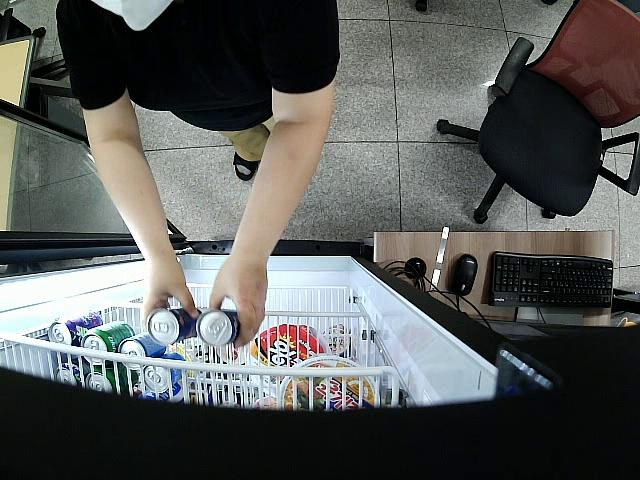00_hand: (210, 258, 264, 351), (142, 262, 199, 322)
16_hot6: (147, 305, 203, 343), (194, 309, 240, 345)
